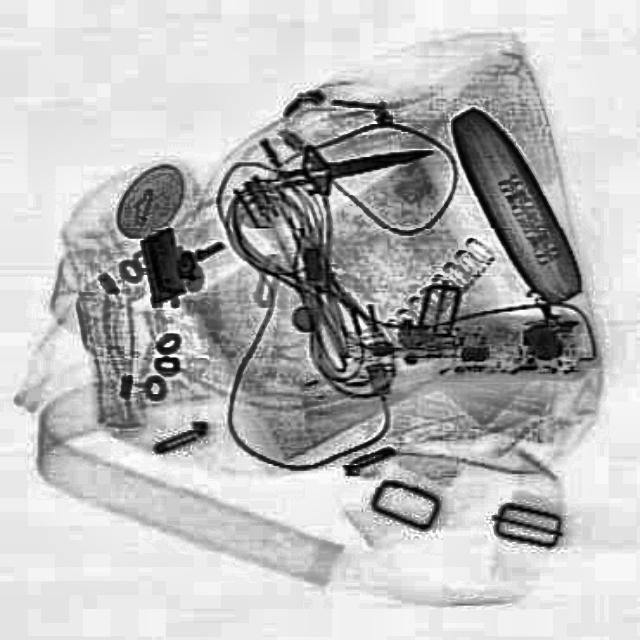Knife: (266, 117, 436, 203)
